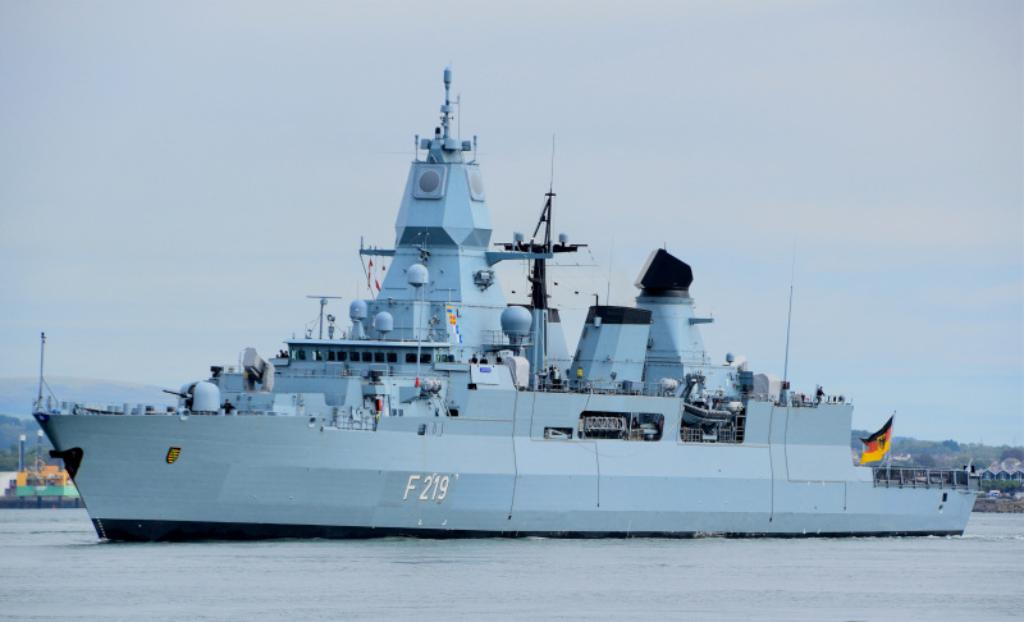Warship: (30, 57, 982, 546)
